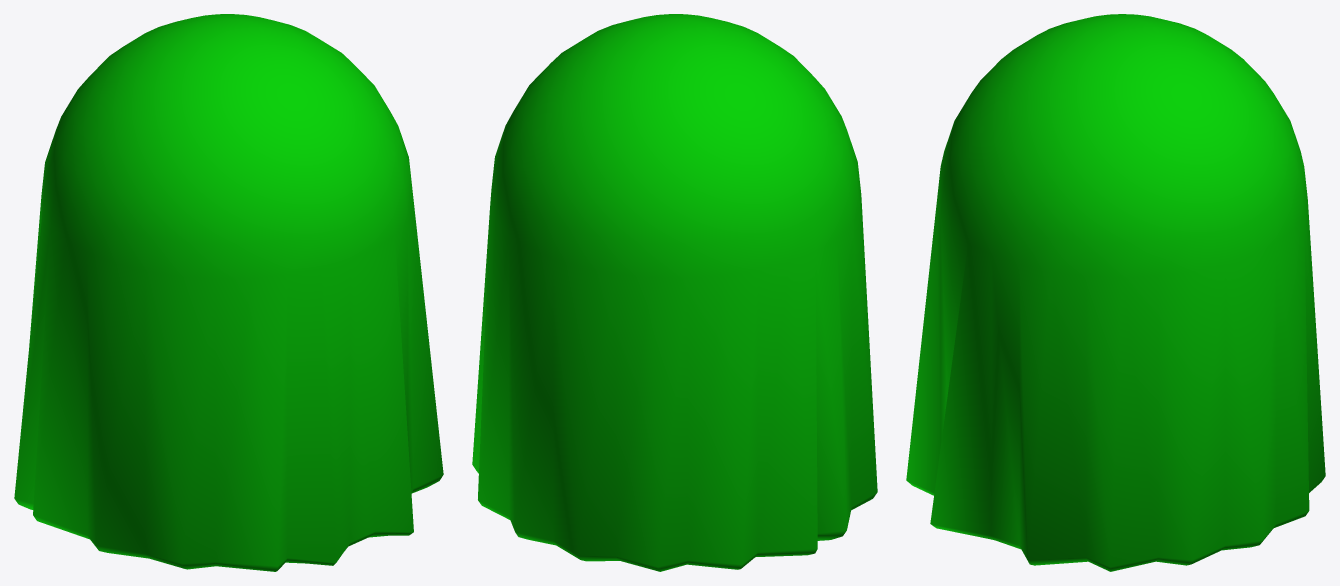
The model's file is Ghost3.obj.
3 renders of one model, left to right at view 1: azimuth 30°, elevation 25°; view 2: azimuth 150°, elevation 25°; view 3: azimuth 270°, elevation 25°, orthographic.
Visible parts, largest first — view 1: Sphere_Sphere.001; view 2: Sphere_Sphere.001; view 3: Sphere_Sphere.001.
Part boxes in pixels (x1,y1,x2,y2): Sphere_Sphere.001: (14,14,443,571); Sphere_Sphere.001: (472,14,877,571); Sphere_Sphere.001: (906,14,1325,571).
Size of the model in its own units: 2.27 by 2.84 by 2.26.
